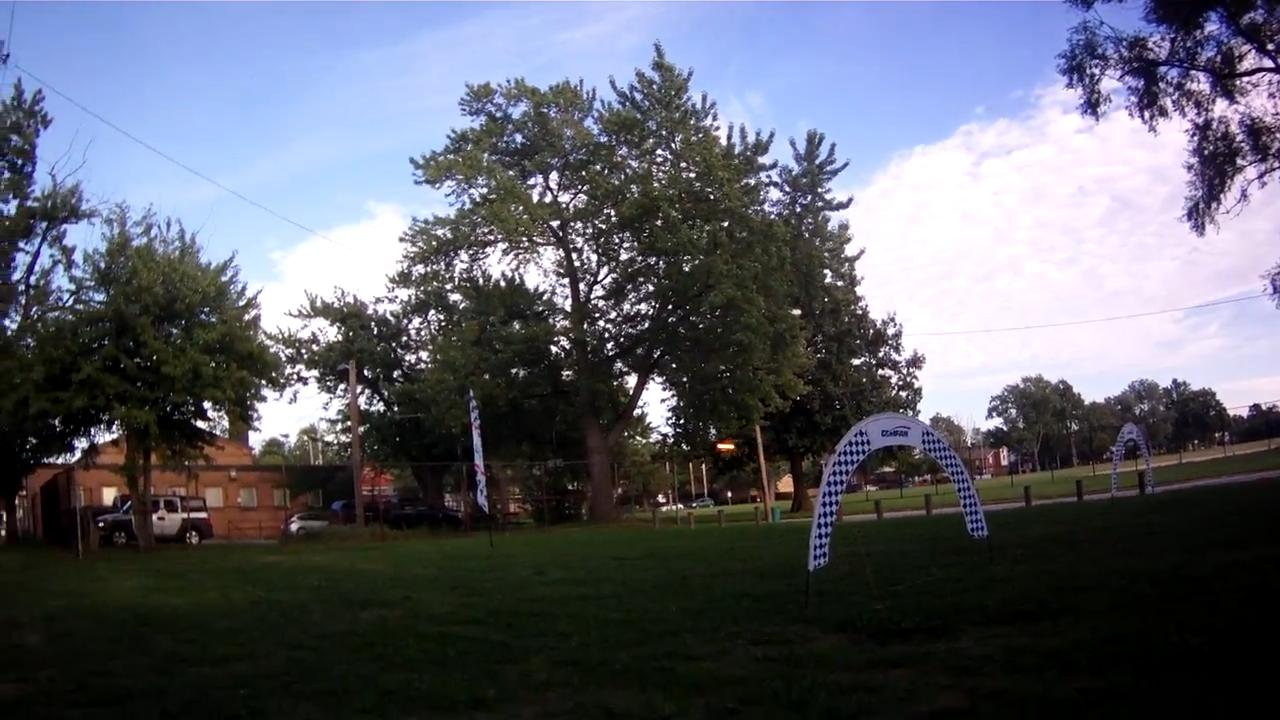gate: (803, 410, 990, 577)
